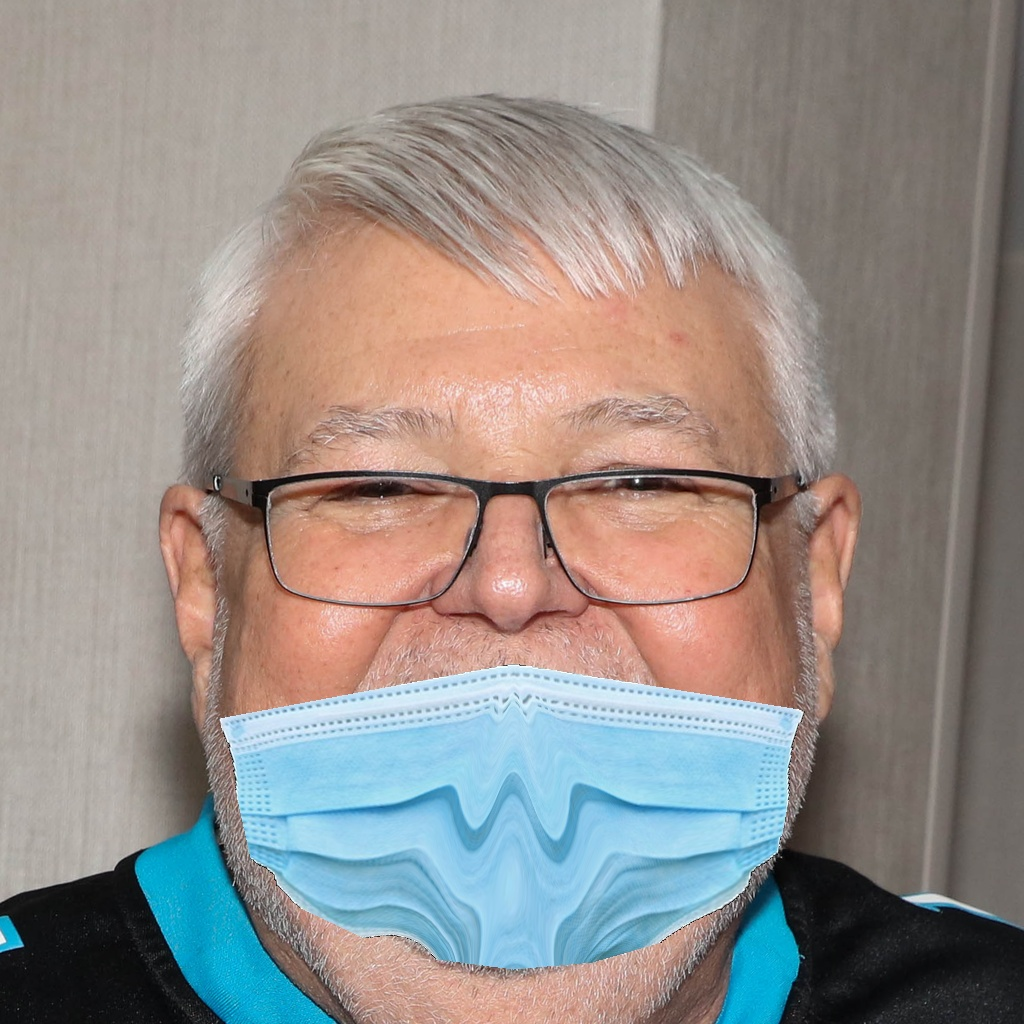mascarilla_mal_puesta: (177, 355, 824, 1000)
